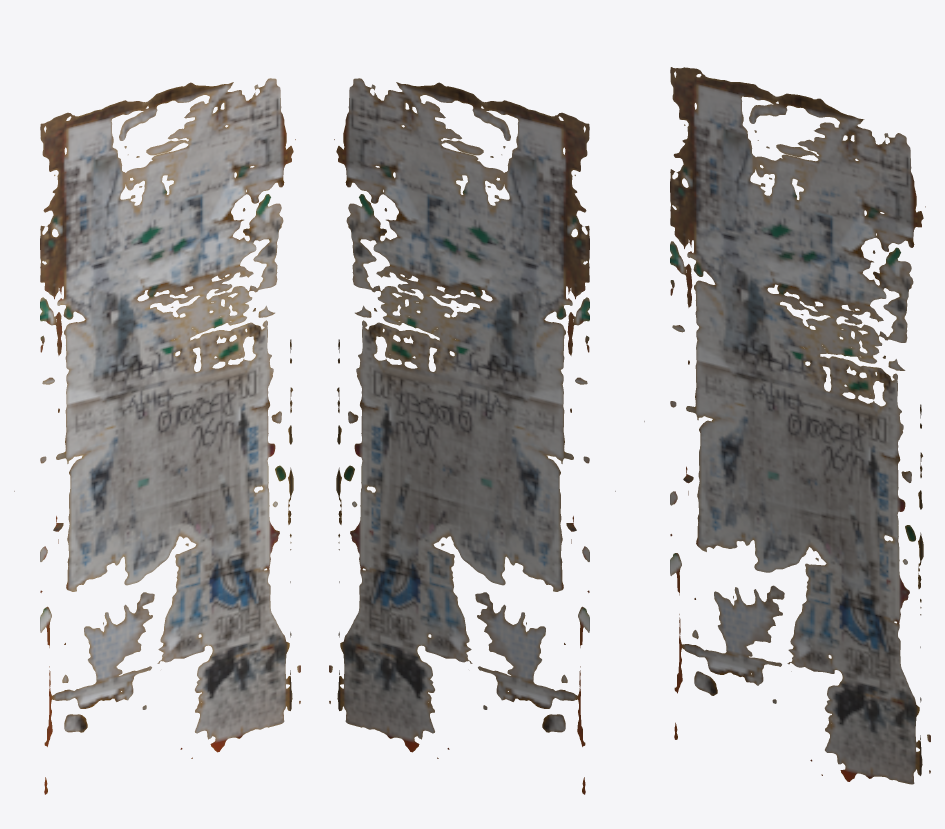
File: store_poster_3.fbx
3 renders of one model, left to right at view 1: azimuth 30°, elevation 25°; view 2: azimuth 150°, elevation 25°; view 3: azimuth 330°, elevation 25°, orthographic.
Parts seen in each view (by area): view 1: store_poster_3; view 2: store_poster_3; view 3: store_poster_3.
Boxes of the visible parts, x1=… form: store_poster_3: x1=14, y1=78, x2=300, y2=794; store_poster_3: x1=329, y1=78, x2=615, y2=794; store_poster_3: x1=644, y1=67, x2=930, y2=784.
Size of the model in its own units: 31.52 by 76.77 by 1.83e-05.
1 material, 1 textured.
